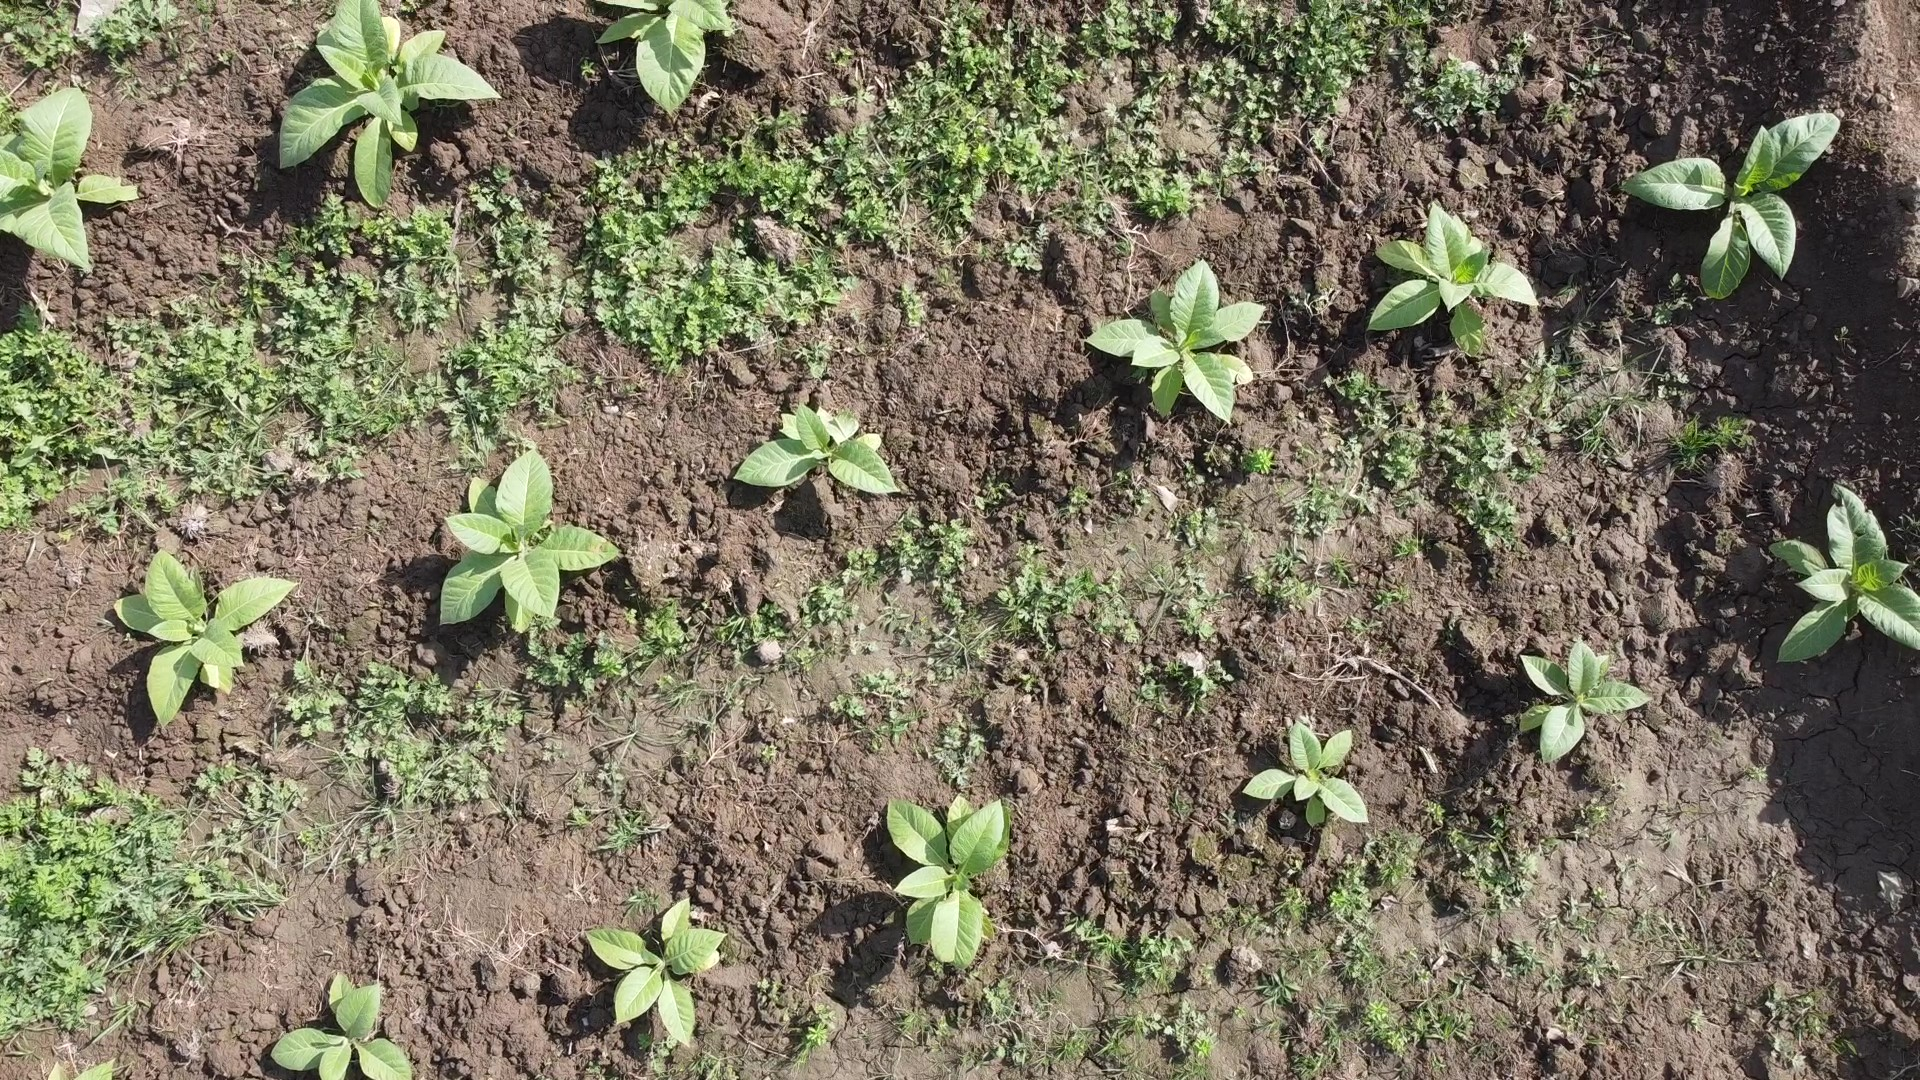weed: (277, 0, 503, 210), (1618, 110, 1841, 299), (112, 548, 302, 730), (438, 449, 622, 633), (1083, 257, 1267, 426), (1364, 201, 1542, 358), (1768, 481, 1920, 664), (0, 85, 140, 271), (885, 792, 1012, 971), (584, 896, 729, 1049), (1518, 638, 1654, 764), (593, 0, 735, 116), (732, 402, 903, 497), (270, 970, 413, 1080), (1241, 718, 1369, 828), (46, 1057, 116, 1080)
